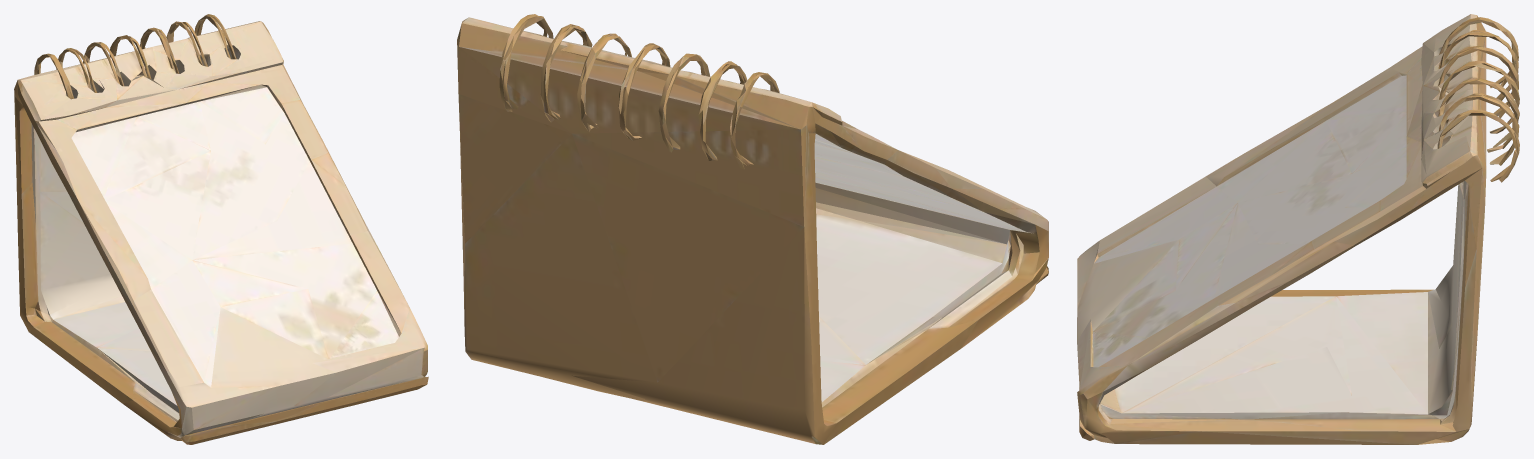
3 views of the same model, side by side, from view 1: azimuth 30°, elevation 25°; view 2: azimuth 150°, elevation 25°; view 3: azimuth 270°, elevation 25° (orthographic). The views are drawn at different scales.
Visible parts, largest first — view 1: mesh_node; view 2: mesh_node; view 3: mesh_node.
Boxes of the visible parts, box(x1,y1,x2,y2) form: mesh_node: box(14, 14, 428, 444); mesh_node: box(457, 14, 1048, 444); mesh_node: box(1077, 14, 1519, 444).
Bounding box in the file's own units: 0.763 × 0.7692 × 1.
1 material, 1 textured.
